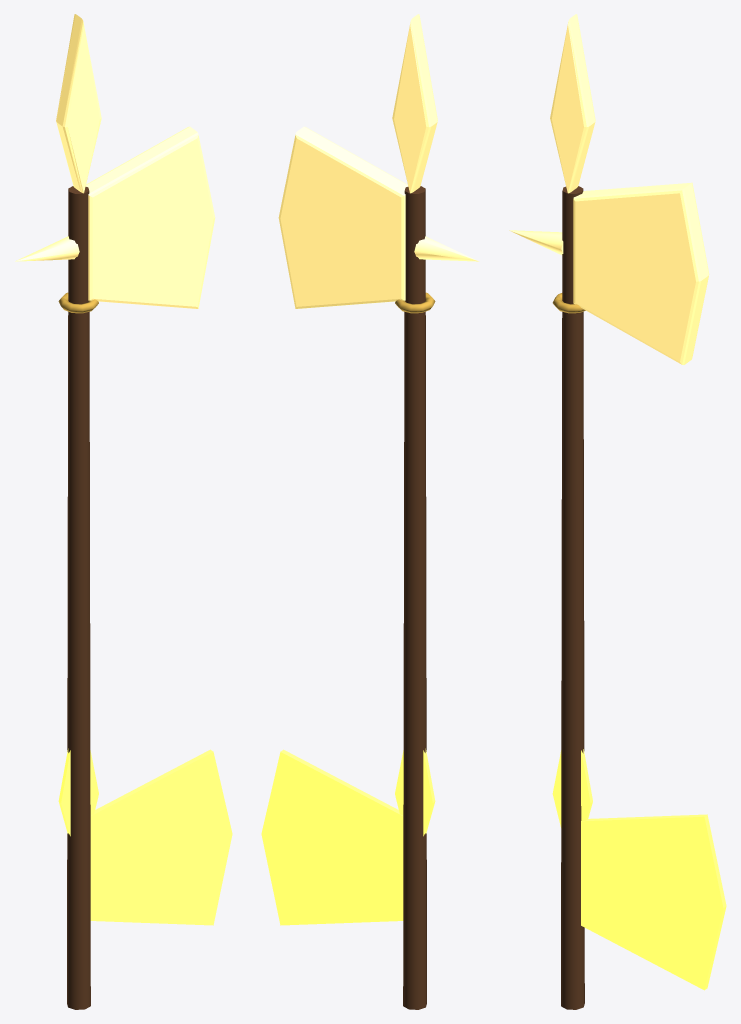
File: spear_f1_3c7f8cc1.glb
3 renders of one model, left to right at view 1: azimuth 30°, elevation 25°; view 2: azimuth 150°, elevation 25°; view 3: azimuth 330°, elevation 25°, orthographic.
Parts seen in each view (by area): view 1: m4_ow80_, m2_gm110_, m0_ow80_, m1_gm110_; view 2: m4_ow80_, m2_gm110_, m0_ow80_, m1_gm110_; view 3: m4_ow80_, m2_gm110_, m0_ow80_, m1_gm110_.
Part boxes in pixels (<box>): m4_ow80_: <box>15,14,215,308</box>; m2_gm110_: <box>90,749,232,925</box>; m0_ow80_: <box>67,186,90,1009</box>; m1_gm110_: <box>58,748,98,836</box>; m4_ow80_: <box>278,14,478,308</box>; m2_gm110_: <box>261,749,403,925</box>; m0_ow80_: <box>403,186,426,1009</box>; m1_gm110_: <box>395,748,435,836</box>; m4_ow80_: <box>509,14,709,364</box>; m2_gm110_: <box>581,814,726,990</box>; m0_ow80_: <box>561,186,584,1009</box>; m1_gm110_: <box>552,749,592,827</box>.
Size of the model in its own units: 0.8064 by 3.52 by 0.1255.
